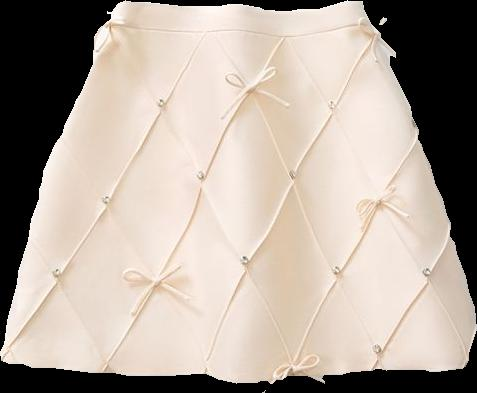Hemline: (0, 356, 469, 386)
Waistline: (110, 20, 369, 39), (119, 0, 362, 14)
